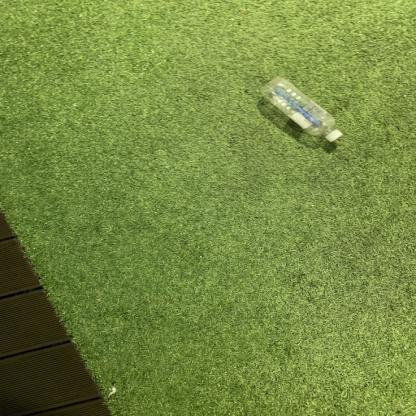trash: (255, 78, 346, 142)
